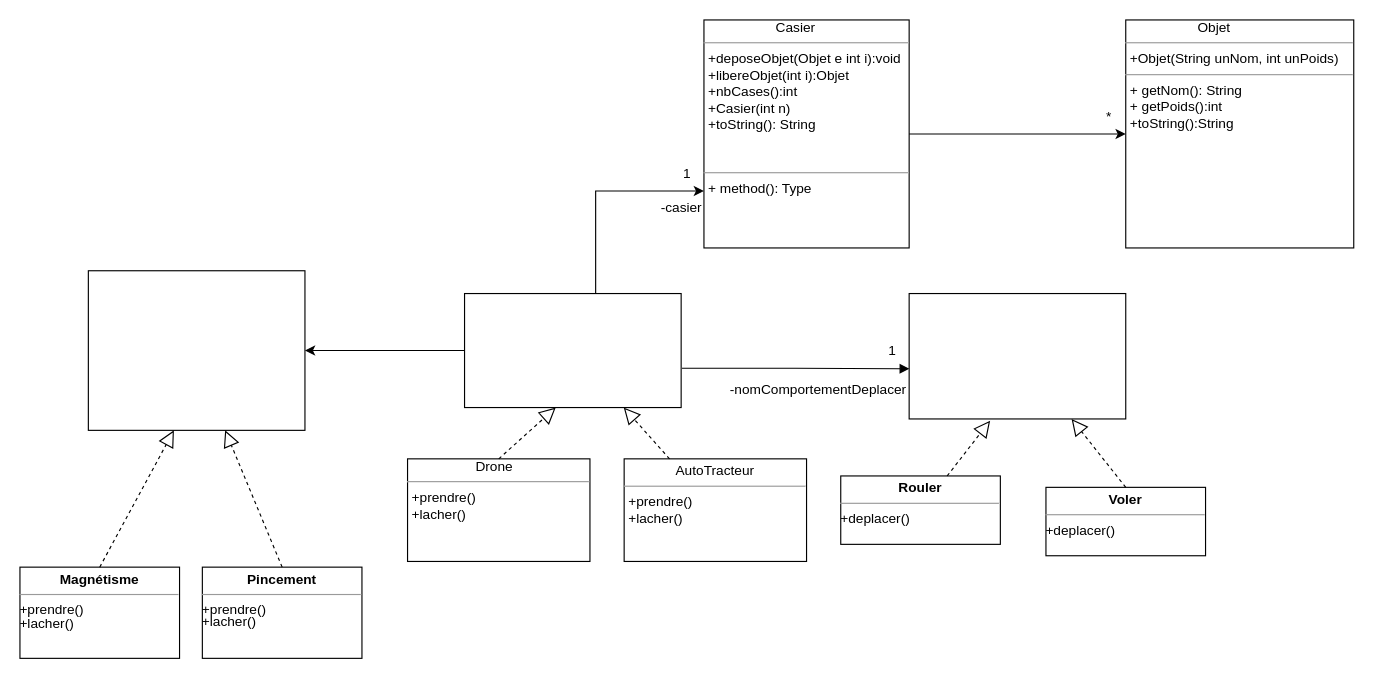
The diagram is 1374 pixels wide and 678 high, and some of its shapes have lost their labels. Here are the shapes that lost their labels. From the top down, the centre of each, then its label:
At [196,350]: "<<Interface>> ComportementManipulation + prendre() + +lacher()".
At [572,350]: "<<Interface>> Robot +deplacer() +prendre() +lacher()".
At [1017,355]: "<<Interface>> ComportementDeplacer +deplacer()".
